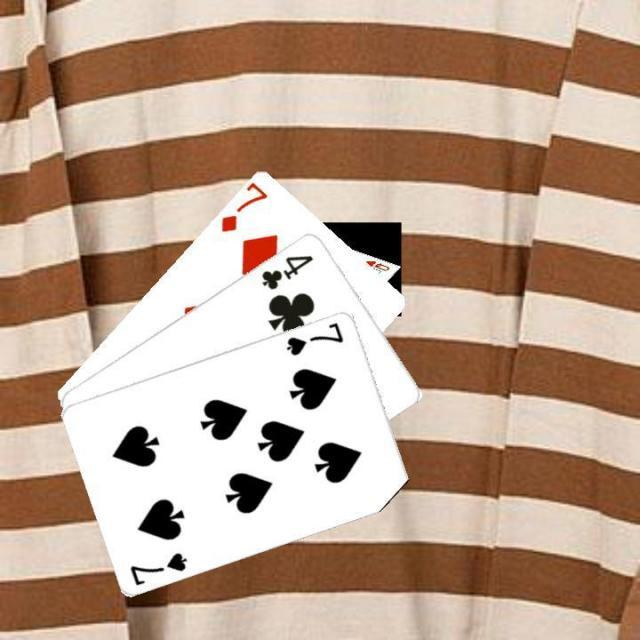4C: (256, 250, 316, 292)
7D: (217, 178, 270, 234)
7S: (282, 318, 346, 358), (126, 548, 190, 588)
